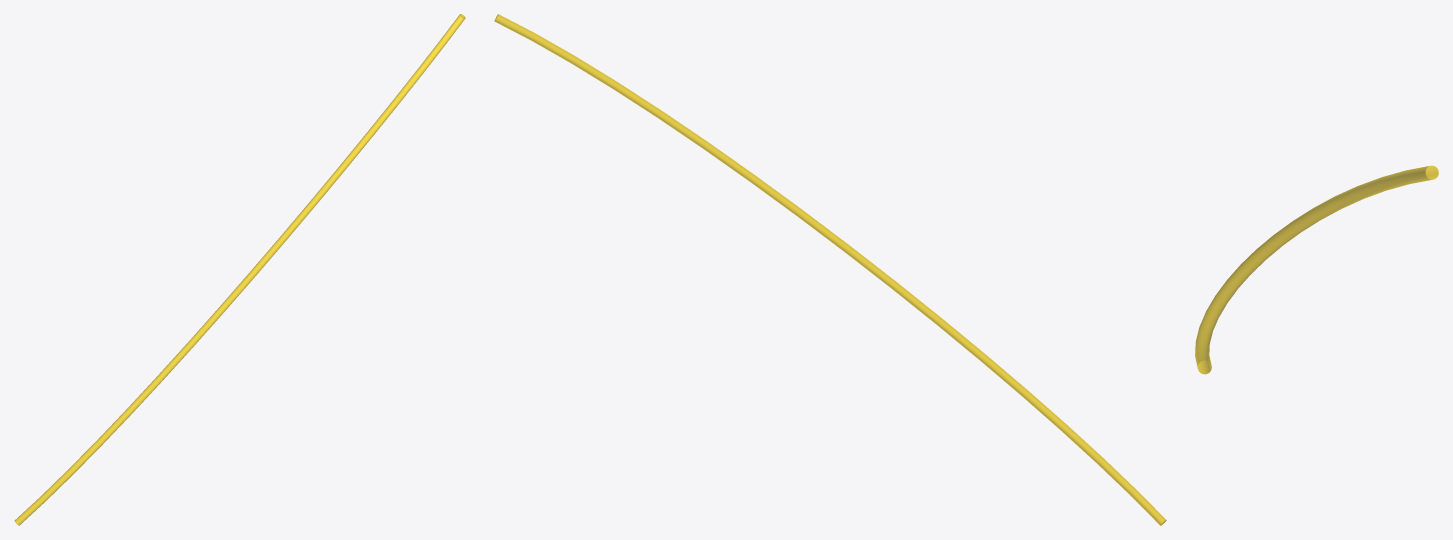
The model's file is Event_17758602_track_170.fbx.
3 renders of one model, left to right at view 1: azimuth 30°, elevation 25°; view 2: azimuth 150°, elevation 25°; view 3: azimuth 270°, elevation 25°, orthographic. The views are drawn at different scales.
Parts seen in each view (by area): view 1: Model; view 2: Model; view 3: Model.
Boxes of the visible parts, x1,y1,x2,y2 form: Model: (14,14,465,525); Model: (494,14,1166,525); Model: (1195,165,1438,374).
Bounding box in the file's own units: 3.29 × 2.16 × 0.6853.
